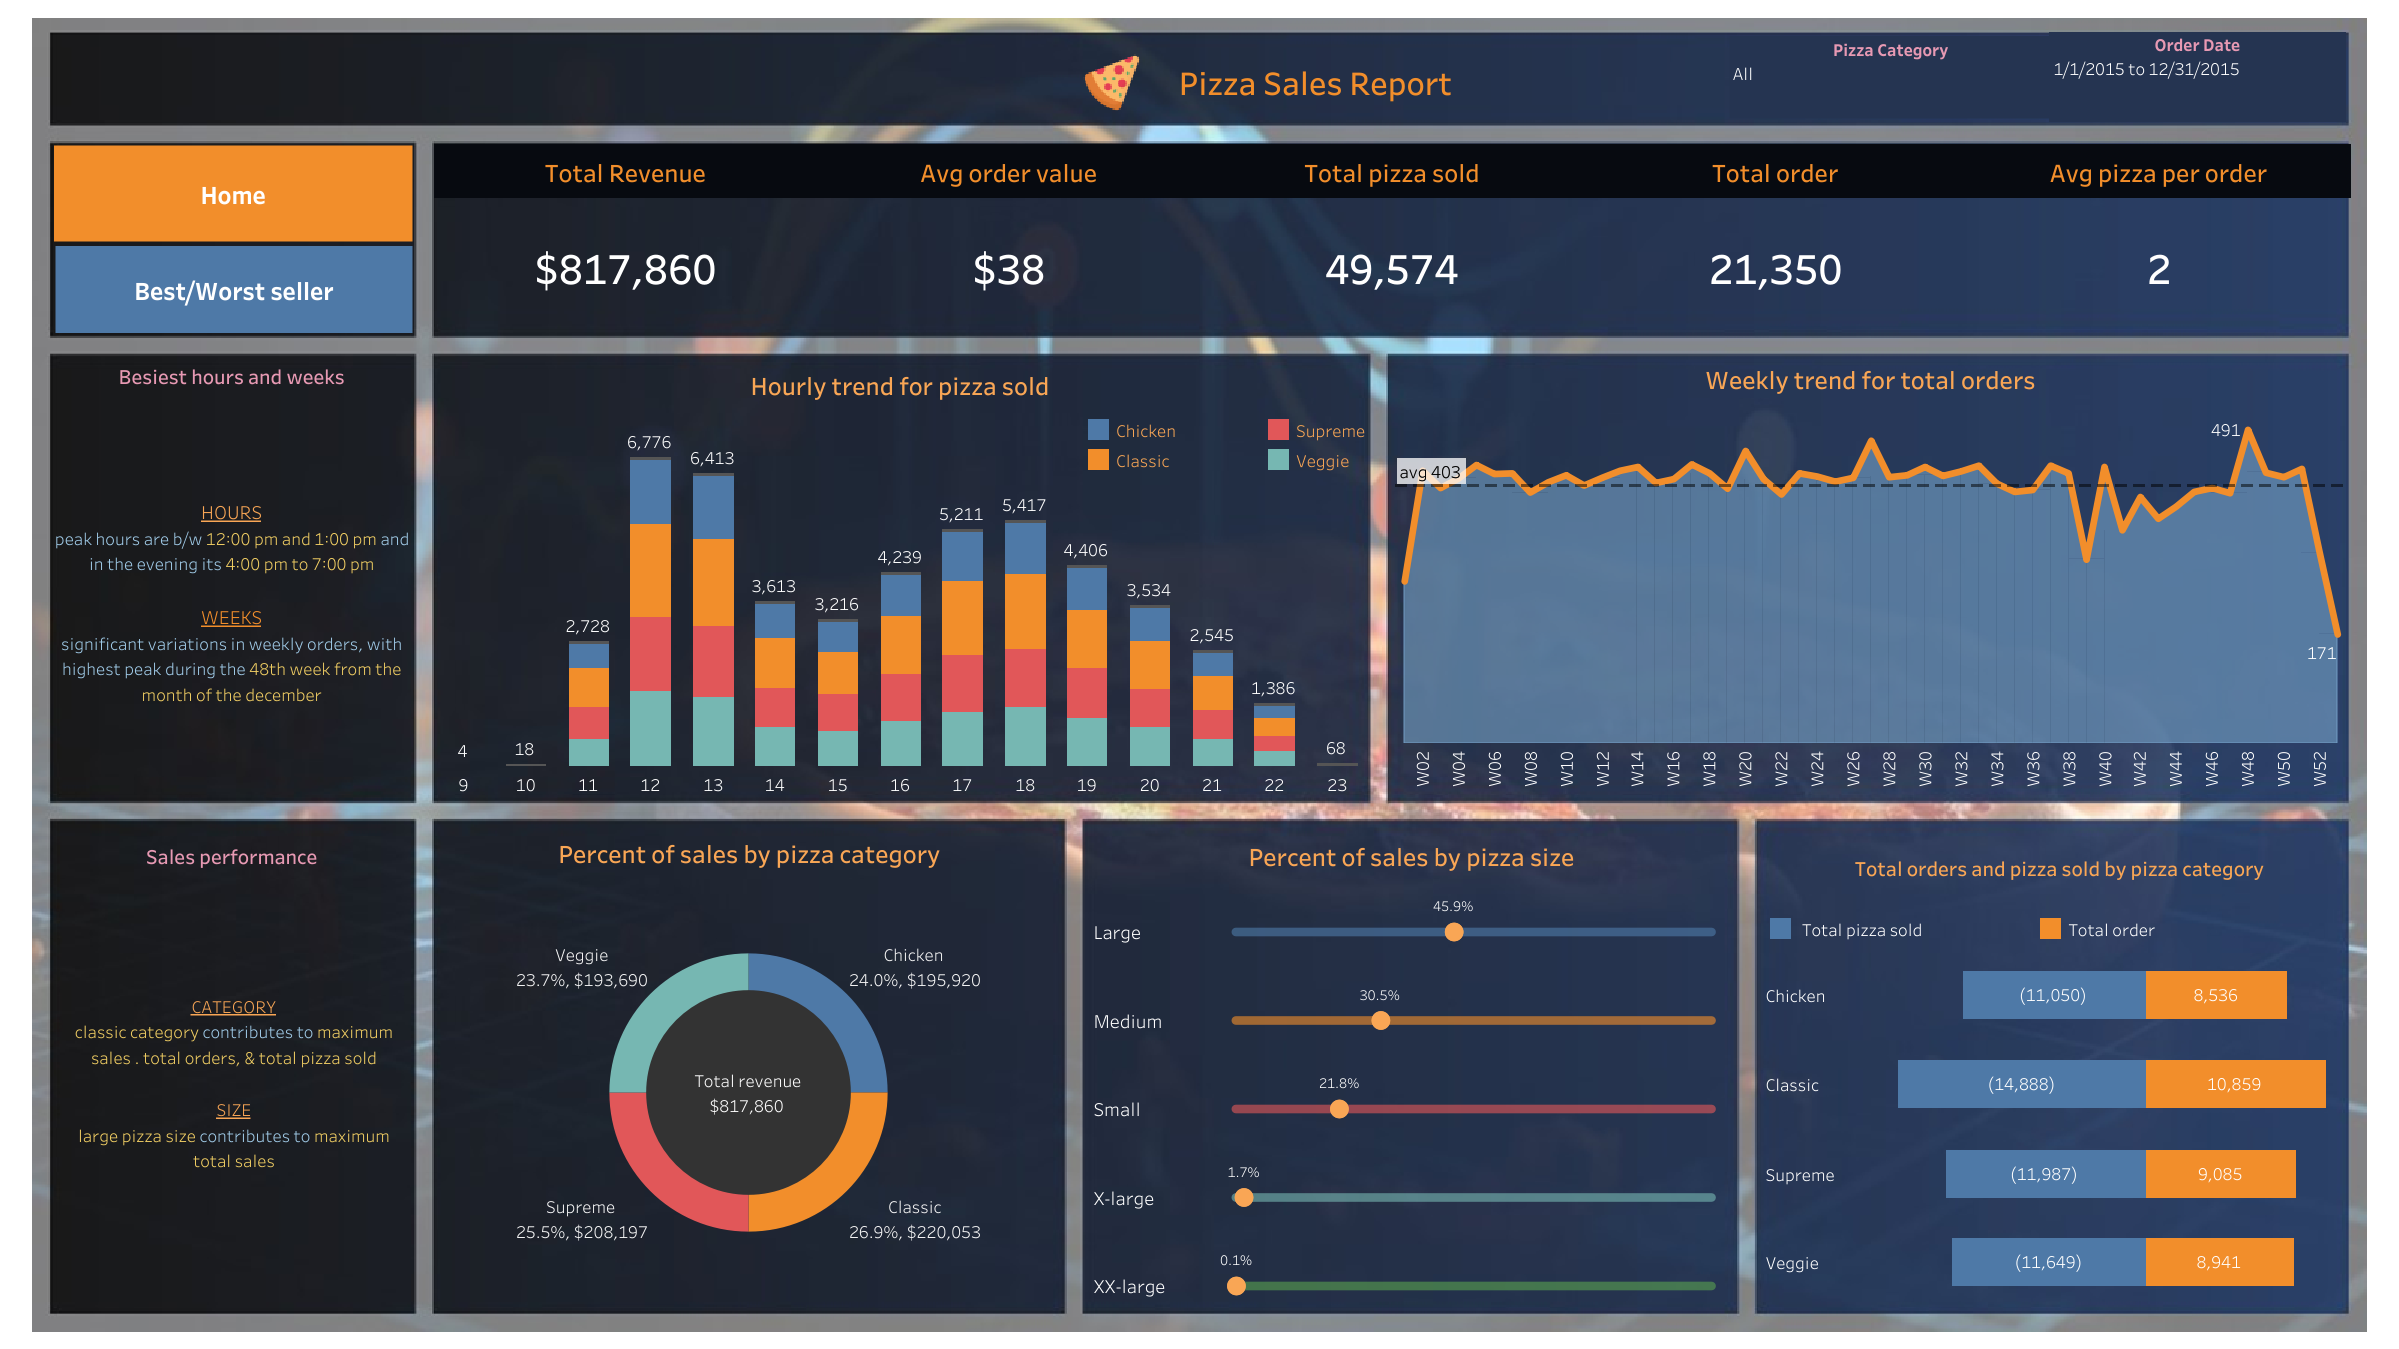

The page's visual inventory and layout, read from the dashboard file:
{"tool":"tableau","page":{"name":"Home","canvas":[1600,900],"ordinal":1},"visuals":[{"type":"image","param":"Image/Pizza Tableau 1.jpg","box":[8,8,1584,884]},{"type":"filter","title":"Hourly trend for pizza sold","param":"[federated.07snlip08zqwaf169htk60rmpi8r].[none:order_date:qk]","box":[1366,21,198,60]},{"type":"filter","title":"Hourly trend for pizza sold","param":"[federated.07snlip08zqwaf169htk60rmpi8r].[none:pizza_category:nk]","box":[1153,24,215,55]},{"type":"text","box":[726,35,302,39]},{"type":"image","param":"Image/pizza-slice.png","box":[719,36,44,38]},{"type":"worksheet","title":"kpi banner","mark":"Automatic","box":[289,96,1278,129]},{"type":"dashboard-object","box":[36,97,239,64]},{"type":"dashboard-object","box":[37,164,238,58]},{"type":"text","box":[34,235,241,30]},{"type":"worksheet","title":"Weekly trend for total orders","mark":"Area","rows":["Calculation_1501669018482167809","Calculation_1501669018482167809"],"cols":["order_date"],"box":[930,235,634,300]},{"type":"worksheet","title":"Hourly trend for pizza sold","mark":"Bar","rows":["Calculation_1501669018501001219","Calculation_1501669018501001219"],"cols":["order_time"],"box":[288,239,624,292]},{"type":"text","box":[34,271,241,261]},{"type":"legend","title":"Hourly trend for pizza sold","param":"[federated.07snlip08zqwaf169htk60rmpi8r].[none:pizza_category:nk]","box":[722,276,246,52]},{"type":"worksheet","title":"Percent of sales by pizza category","mark":"Pie","rows":["Calculation_1764003696937279489","Calculation_1764003696937316355"],"box":[300,551,399,316]},{"type":"text","box":[1174,551,398,55]},{"type":"worksheet","title":"Percent of sales by pizza size","mark":"Line","rows":["pizza_size"],"box":[723,553,436,333]},{"type":"text","box":[34,555,241,30]},{"type":"text","box":[40,591,232,261]},{"type":"legend","title":"Sheet 6","param":"[federated.07snlip08zqwaf169htk60rmpi8r].[:Measure Names]","box":[1177,609,379,35]},{"type":"worksheet","title":"Sheet 6","mark":"Automatic","rows":["pizza_category"],"box":[1171,633,393,238]}]}

Visuals, with their boxes in screenshot pixels (x1, y1, x2, y2), scaled from the page's 1600x900 canvas onto the 2399x1349 screenshot:
image: pyautogui.locateOnScreen(12, 12, 2387, 1337)
"Hourly trend for pizza sold" filter: pyautogui.locateOnScreen(2048, 31, 2345, 121)
"Hourly trend for pizza sold" filter: pyautogui.locateOnScreen(1729, 36, 2051, 118)
text: pyautogui.locateOnScreen(1089, 52, 1541, 111)
image: pyautogui.locateOnScreen(1078, 54, 1144, 111)
"kpi banner" worksheet: pyautogui.locateOnScreen(433, 144, 2350, 337)
dashboard-object: pyautogui.locateOnScreen(54, 145, 412, 241)
dashboard-object: pyautogui.locateOnScreen(55, 246, 412, 333)
text: pyautogui.locateOnScreen(51, 352, 412, 397)
"Weekly trend for total orders" worksheet (Area marks): pyautogui.locateOnScreen(1394, 352, 2345, 802)
"Hourly trend for pizza sold" worksheet (Bar marks): pyautogui.locateOnScreen(432, 358, 1367, 796)
text: pyautogui.locateOnScreen(51, 406, 412, 797)
"Hourly trend for pizza sold" legend: pyautogui.locateOnScreen(1083, 414, 1451, 492)
"Percent of sales by pizza category" worksheet (Pie marks): pyautogui.locateOnScreen(450, 826, 1048, 1300)
text: pyautogui.locateOnScreen(1760, 826, 2357, 908)
"Percent of sales by pizza size" worksheet (Line marks): pyautogui.locateOnScreen(1084, 829, 1738, 1328)
text: pyautogui.locateOnScreen(51, 832, 412, 877)
text: pyautogui.locateOnScreen(60, 886, 408, 1277)
"Sheet 6" legend: pyautogui.locateOnScreen(1765, 913, 2333, 965)
"Sheet 6" worksheet: pyautogui.locateOnScreen(1756, 949, 2345, 1306)
